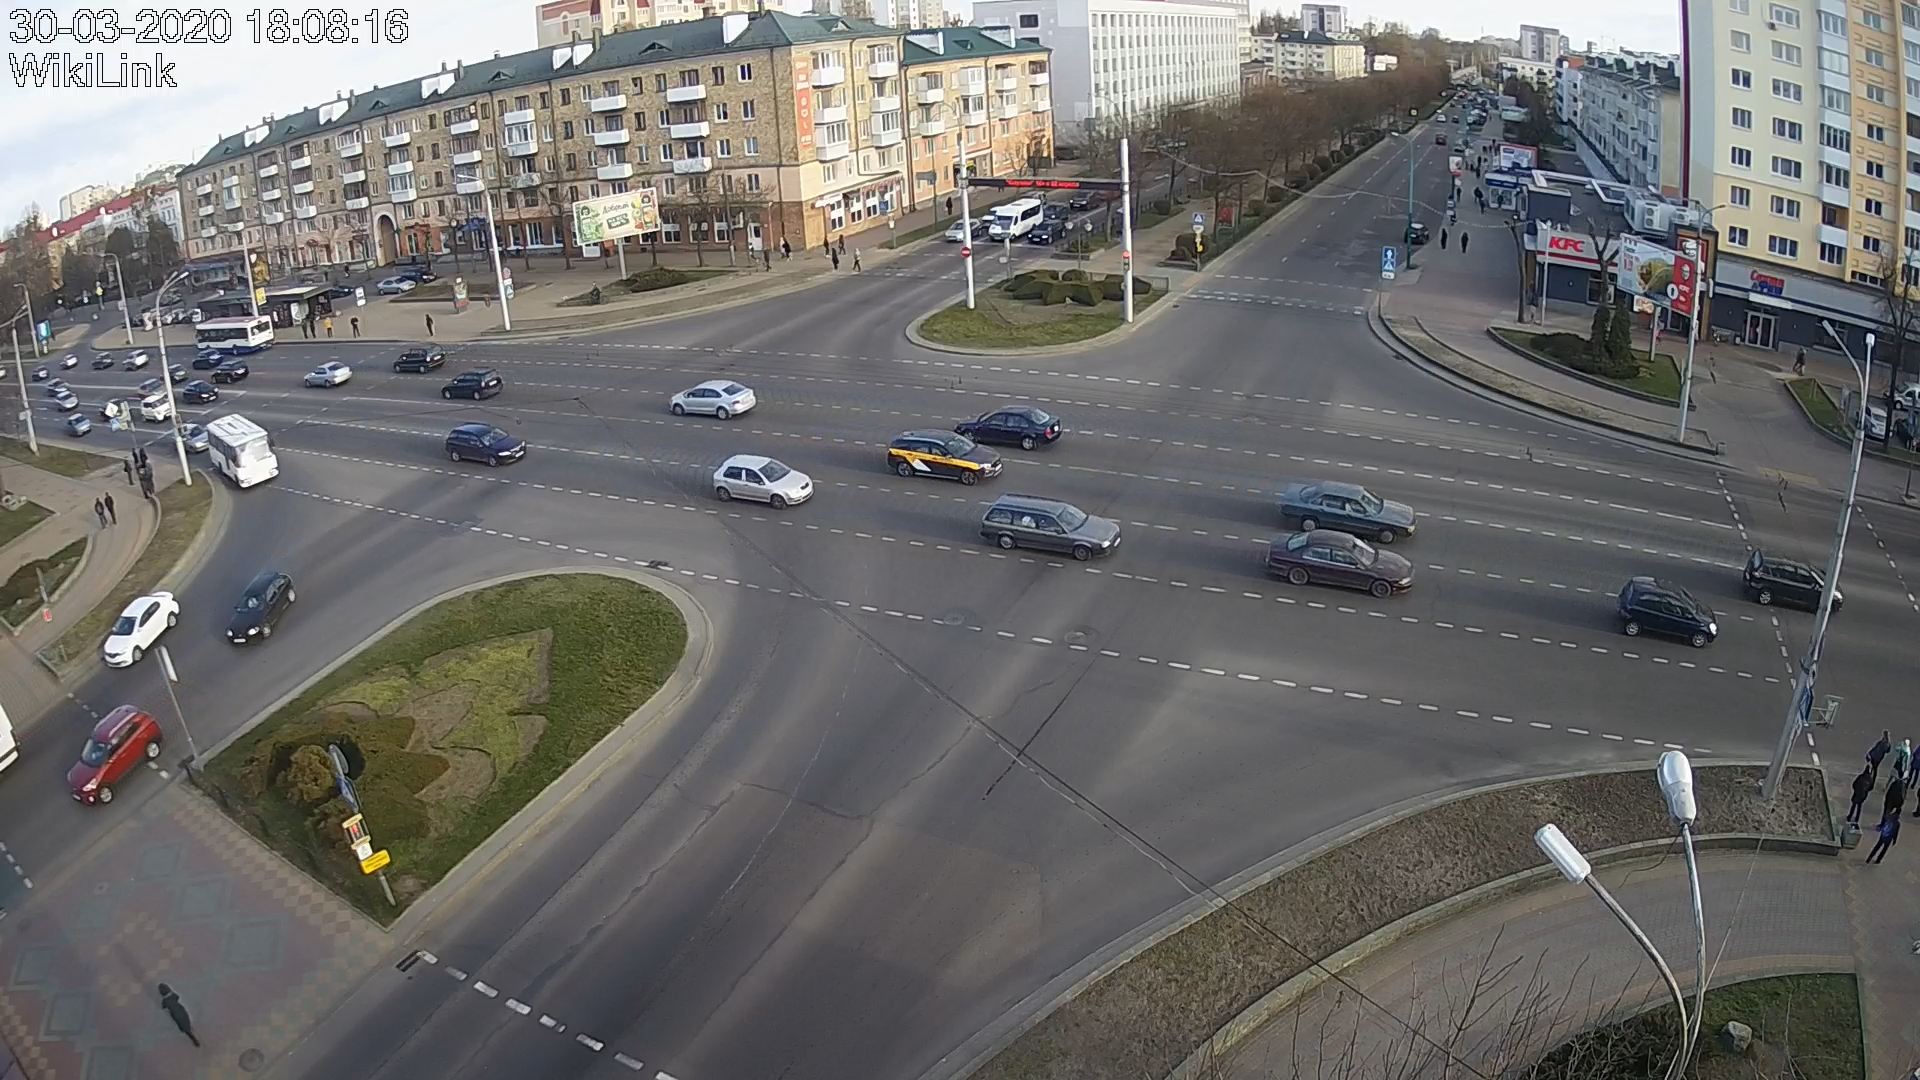bus: (207, 413, 280, 488), (195, 316, 272, 355)
car: (1265, 529, 1415, 599), (978, 492, 1122, 562), (66, 704, 164, 807), (1279, 479, 1418, 546), (1614, 575, 1720, 647), (886, 429, 1004, 487), (1743, 549, 1845, 615), (103, 589, 179, 667), (712, 454, 814, 510), (953, 404, 1064, 452), (225, 571, 297, 646), (444, 422, 527, 467), (669, 380, 757, 419), (989, 198, 1043, 241), (440, 367, 504, 400), (393, 343, 444, 375), (303, 361, 353, 388), (174, 422, 210, 454), (1029, 220, 1068, 244), (211, 359, 248, 384), (945, 218, 982, 243), (185, 378, 219, 405), (141, 396, 175, 422)
